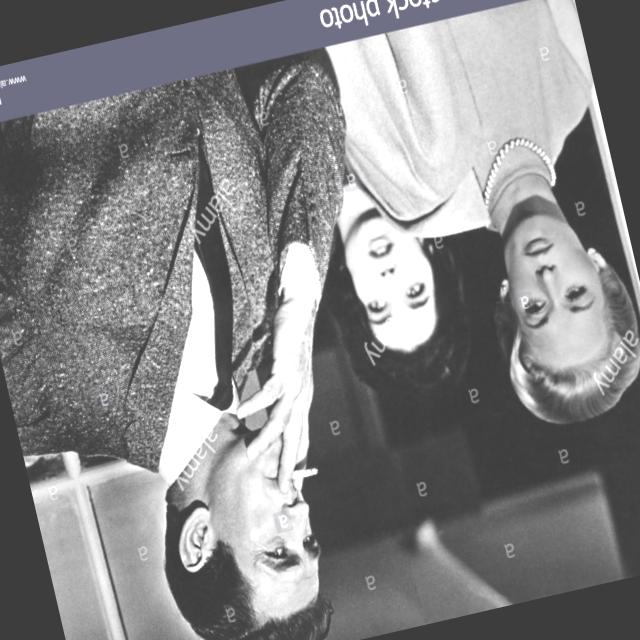smoke: (291, 466, 319, 480)
